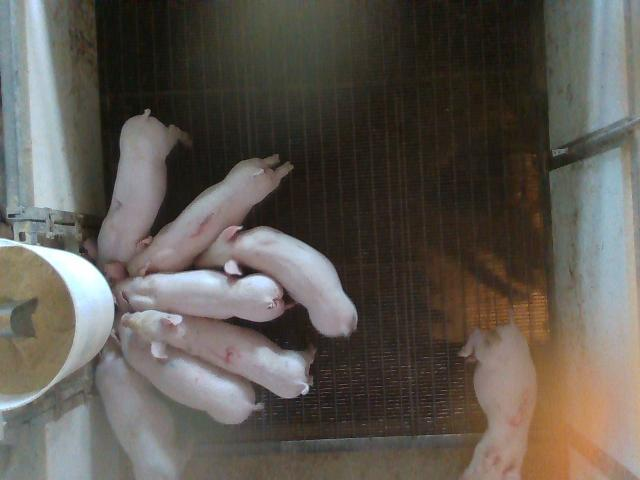pig-1: (129, 155, 294, 276)
pig-3: (460, 320, 538, 478)
pig-4: (121, 310, 313, 398)
